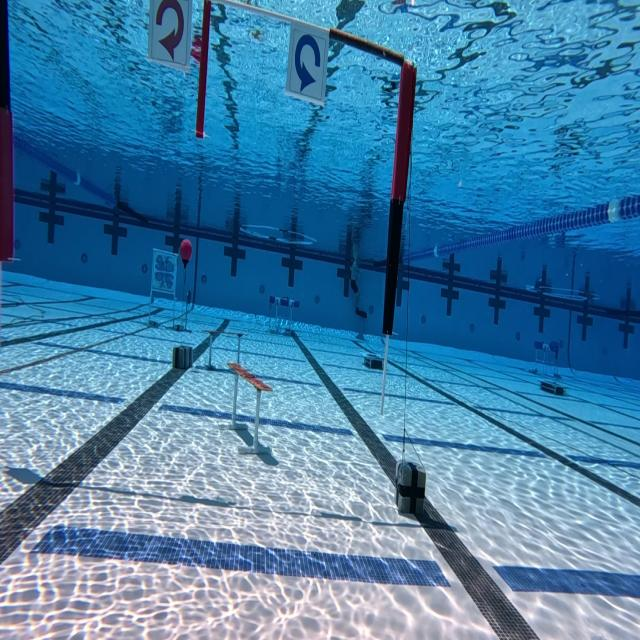blue_side: (292, 20, 323, 97), (154, 0, 187, 62)
